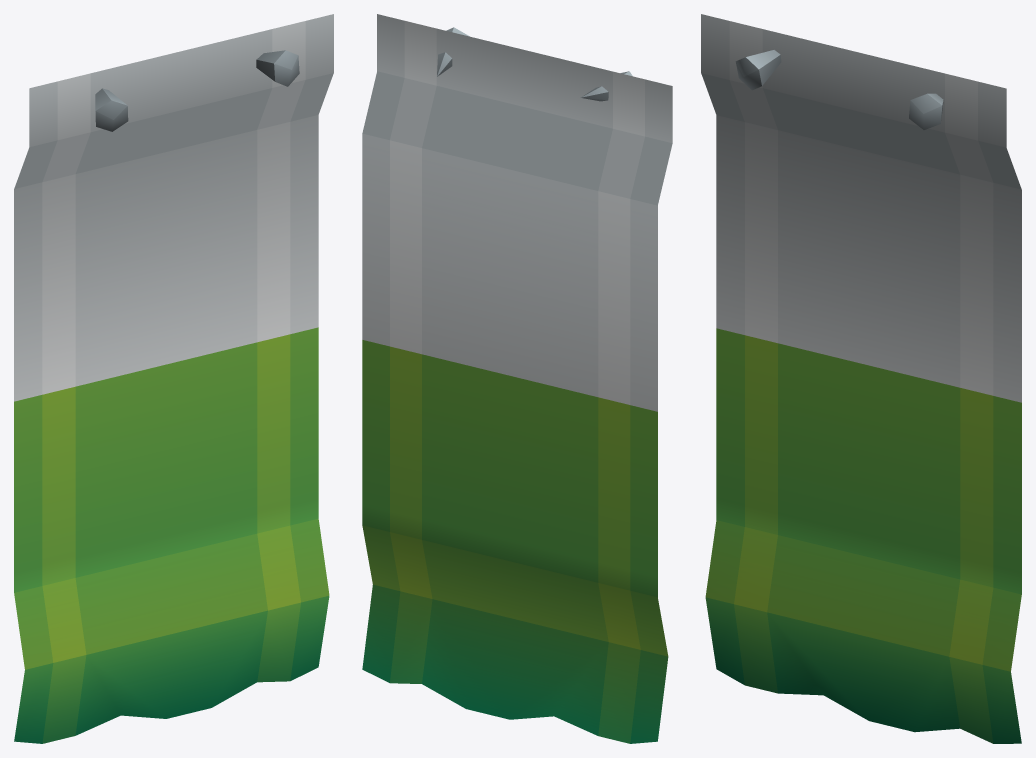
Rendered from banner_patternB_green.gltf.
3 renders of one model, left to right at view 1: azimuth 30°, elevation 25°; view 2: azimuth 150°, elevation 25°; view 3: azimuth 330°, elevation 25°, orthographic. The views are drawn at different scales.
Visible parts, largest first — view 1: banner_patternB_green; view 2: banner_patternB_green; view 3: banner_patternB_green.
Part boxes in pixels (x1=…): banner_patternB_green: x1=14, y1=14, x2=333, y2=743; banner_patternB_green: x1=362, y1=14, x2=672, y2=743; banner_patternB_green: x1=701, y1=14, x2=1021, y2=743.
Size of the model in its own units: 1.5 by 3.2 by 0.3119.
1 material, 1 textured.
